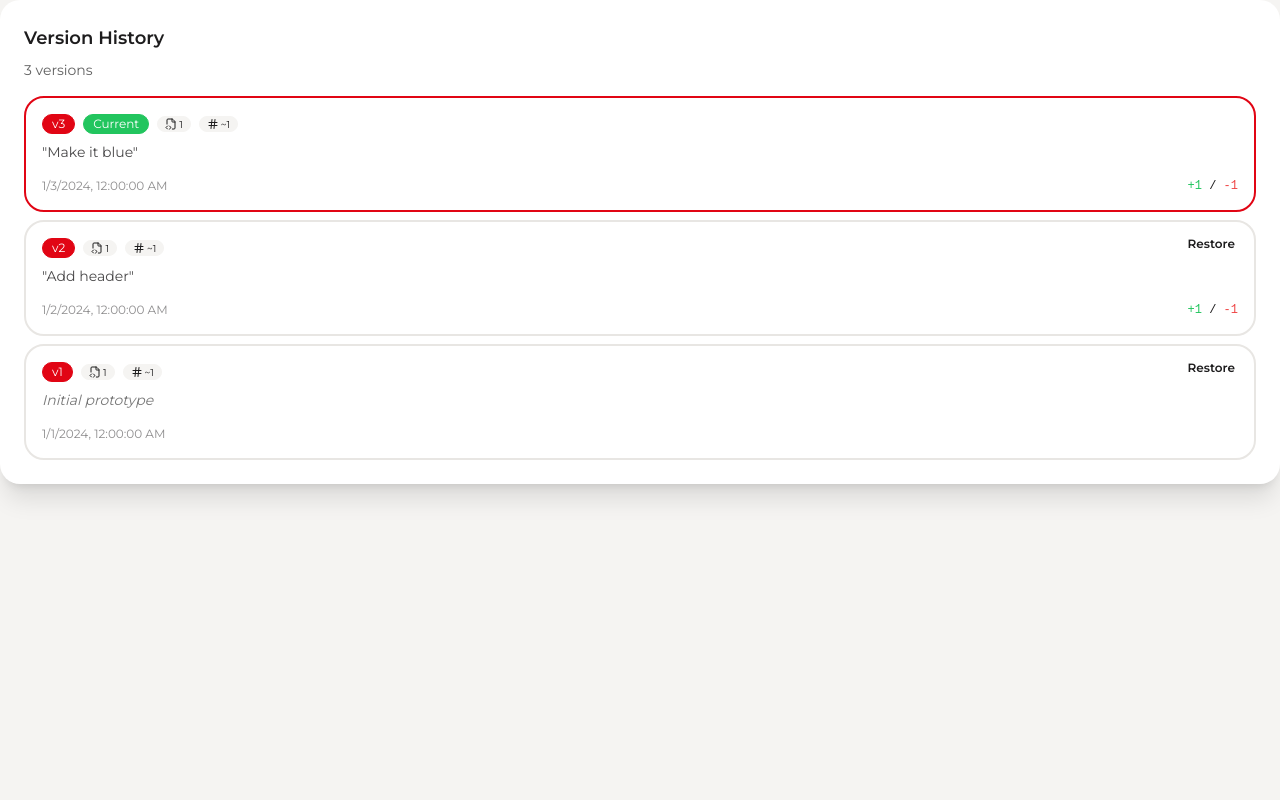
VersionHistoryPanel › opens confirmation modal when clicking restore button
# Click first restore button (for version 2)
Click the 1st button "Restore" at (1211, 244), box [1175,228,1248,260]
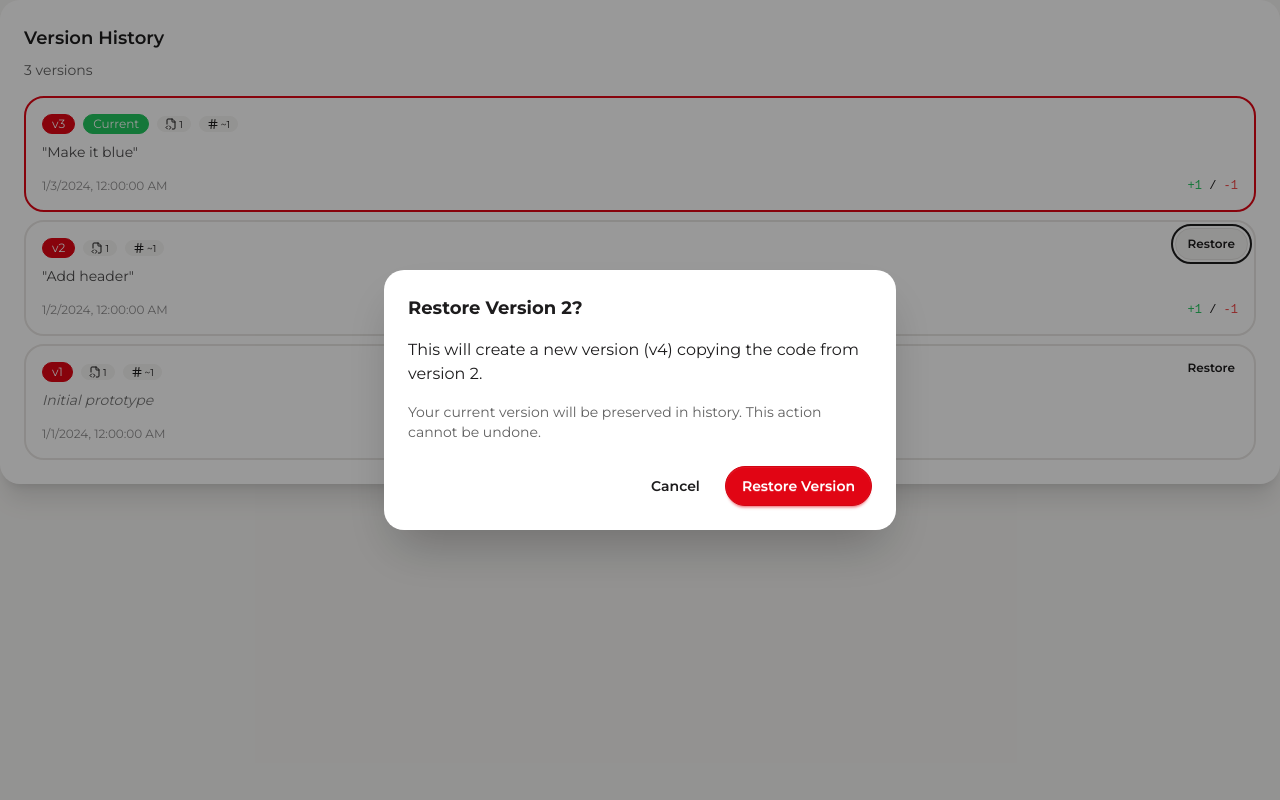
Expected: the heading "Restore Version 2?" is shown, [408,297,583,319]
Expected: the text "This will create a new version (v4)" is shown, [408,340,859,383]
